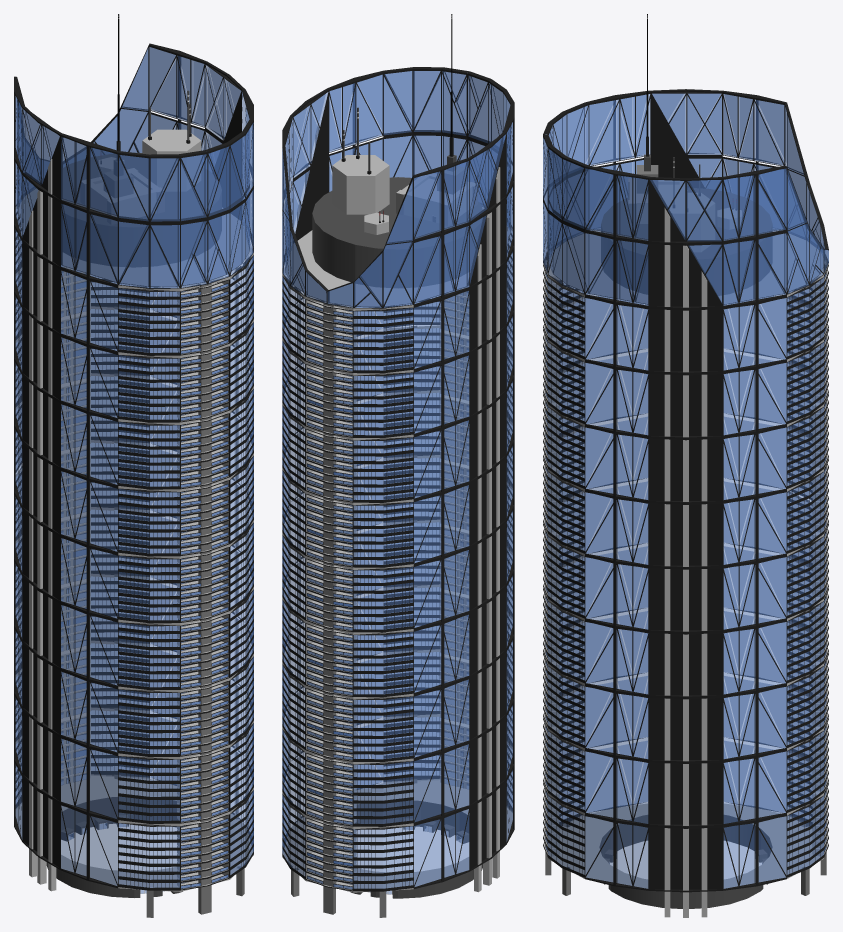
Rendered from Sky_Scraper_A.fbx.
3 views of the same model, side by side, from view 1: azimuth 30°, elevation 25°; view 2: azimuth 150°, elevation 25°; view 3: azimuth 270°, elevation 25° (orthographic). The views are drawn at different scales.
Parts seen in each view (by area): view 1: C-Oval_Glass_Sky_Scraper_window_top_back.002, C-Oval_Glass_Sky_Scraper_window_top_back.003, G-Object.002, C-Oval_Glass_Sky_Scraper_window_top_back, _C-Oval_Glass_Sky_Scraper_Glass_Surr_Half (Loose Mesh).001, C-Oval_Glass_Sky_Scraper_window_top.001, C-Oval_Glass_Sky_Scraper_window_top_back.001, C-Oval_Glass_Sky_Scraper_window_Tri_Supp.006, C-Oval_Glass_Sky_Scraper_window_Tri_Supp.031, C-Oval_Glass_Sky_Scraper_window_Tri_Supp.043, C-Oval_Glass_Sky_Scraper_window_Tri_Supp.019, C-Oval_Glass_Sky_Scraper_window_Tri_Supp.035 (+130 smaller); view 2: G-Object.002, C-Oval_Glass_Sky_Scraper_window_top_back.001, C-Oval_Glass_Sky_Scraper_window_top_back, _C-Oval_Glass_Sky_Scraper_Glass_Surr_Half (Loose Mesh).001, C-Oval_Glass_Sky_Scraper_window_top.001, C-Oval_Glass_Sky_Scraper_window_top_front.002, C-Oval_Glass_Sky_Scraper_window_top_inner, C-Oval_Glass_Sky_Scraper_window_top_front.003, C-Oval_Glass_Sky_Scraper_window_Tri_Supp.010, C-Oval_Glass_Sky_Scraper_window_Tri_Supp.018, C-Oval_Glass_Sky_Scraper_window_Tri_Supp.030, C-Oval_Glass_Sky_Scraper_window_Tri_Supp.022 (+133 smaller); view 3: C-Oval_Glass_Sky_Scraper_window_top, G-Object.002, C-Oval_Glass_Sky_Scraper_window_top_inner.001, _C-Oval_Glass_Sky_Scraper_Glass_Surr_Half (Loose Mesh), C-Oval_Glass_Sky_Scraper_window_top_back, _C-Oval_Glass_Sky_Scraper_Half (Loose Mesh).008, _C-Oval_Glass_Sky_Scraper_Half (Loose Mesh), _C-Oval_Glass_Sky_Scraper_Half (Loose Mesh).012, _C-Oval_Glass_Sky_Scraper_Half (Loose Mesh).016, _C-Oval_Glass_Sky_Scraper_Half (Loose Mesh).002, _C-Oval_Glass_Sky_Scraper_Half (Loose Mesh).004, _C-Oval_Glass_Sky_Scraper_Half (Loose Mesh).006 (+65 smaller).
Part boxes in pixels (box(x1,y1,x2,y2)): C-Oval_Glass_Sky_Scraper_window_top_back.002: box(118, 152, 207, 288); C-Oval_Glass_Sky_Scraper_window_top_back.003: box(119, 154, 204, 286); G-Object.002: box(62, 14, 221, 226); C-Oval_Glass_Sky_Scraper_window_top_back: box(208, 120, 253, 284); _C-Oval_Glass_Sky_Scraper_Glass_Surr_Half (Loose Mesh).001: box(17, 188, 202, 285); C-Oval_Glass_Sky_Scraper_window_top.001: box(22, 107, 60, 268); C-Oval_Glass_Sky_Scraper_window_top_back.001: box(205, 129, 249, 282); C-Oval_Glass_Sky_Scraper_window_Tri_Supp.006: box(60, 202, 118, 286); C-Oval_Glass_Sky_Scraper_window_Tri_Supp.031: box(60, 603, 118, 687); C-Oval_Glass_Sky_Scraper_window_Tri_Supp.043: box(60, 469, 118, 553); C-Oval_Glass_Sky_Scraper_window_Tri_Supp.019: box(60, 335, 118, 419); C-Oval_Glass_Sky_Scraper_window_Tri_Supp.035: box(60, 670, 118, 754); G-Object.002: box(312, 14, 482, 249); C-Oval_Glass_Sky_Scraper_window_top_back.001: box(383, 69, 467, 177); C-Oval_Glass_Sky_Scraper_window_top_back: box(383, 71, 469, 177); _C-Oval_Glass_Sky_Scraper_Glass_Surr_Half (Loose Mesh).001: box(330, 207, 510, 306); C-Oval_Glass_Sky_Scraper_window_top.001: box(469, 132, 506, 288); C-Oval_Glass_Sky_Scraper_window_top_front.002: box(326, 177, 413, 308); C-Oval_Glass_Sky_Scraper_window_top_inner: box(293, 89, 328, 242); C-Oval_Glass_Sky_Scraper_window_top_front.003: box(328, 180, 412, 307); C-Oval_Glass_Sky_Scraper_window_Tri_Supp.010: box(413, 418, 469, 500); C-Oval_Glass_Sky_Scraper_window_Tri_Supp.018: box(413, 353, 469, 435); C-Oval_Glass_Sky_Scraper_window_Tri_Supp.030: box(413, 612, 469, 694); C-Oval_Glass_Sky_Scraper_window_Tri_Supp.022: box(413, 548, 469, 629); C-Oval_Glass_Sky_Scraper_window_top: box(649, 178, 722, 309); G-Object.002: box(601, 14, 771, 258); C-Oval_Glass_Sky_Scraper_window_top_inner.001: box(651, 90, 722, 188); _C-Oval_Glass_Sky_Scraper_Glass_Surr_Half (Loose Mesh): box(549, 226, 823, 303); C-Oval_Glass_Sky_Scraper_window_top_back: box(543, 135, 584, 294); _C-Oval_Glass_Sky_Scraper_Half (Loose Mesh).008: box(548, 729, 823, 827); _C-Oval_Glass_Sky_Scraper_Half (Loose Mesh): box(547, 405, 824, 503); _C-Oval_Glass_Sky_Scraper_Half (Loose Mesh).012: box(546, 664, 825, 762); _C-Oval_Glass_Sky_Scraper_Half (Loose Mesh).016: box(547, 470, 824, 568); _C-Oval_Glass_Sky_Scraper_Half (Loose Mesh).002: box(546, 794, 825, 892); _C-Oval_Glass_Sky_Scraper_Half (Loose Mesh).004: box(548, 341, 823, 438); _C-Oval_Glass_Sky_Scraper_Half (Loose Mesh).006: box(546, 535, 825, 633).
Bounding box in the file's own units: 7500 × 32500 × 10000.
